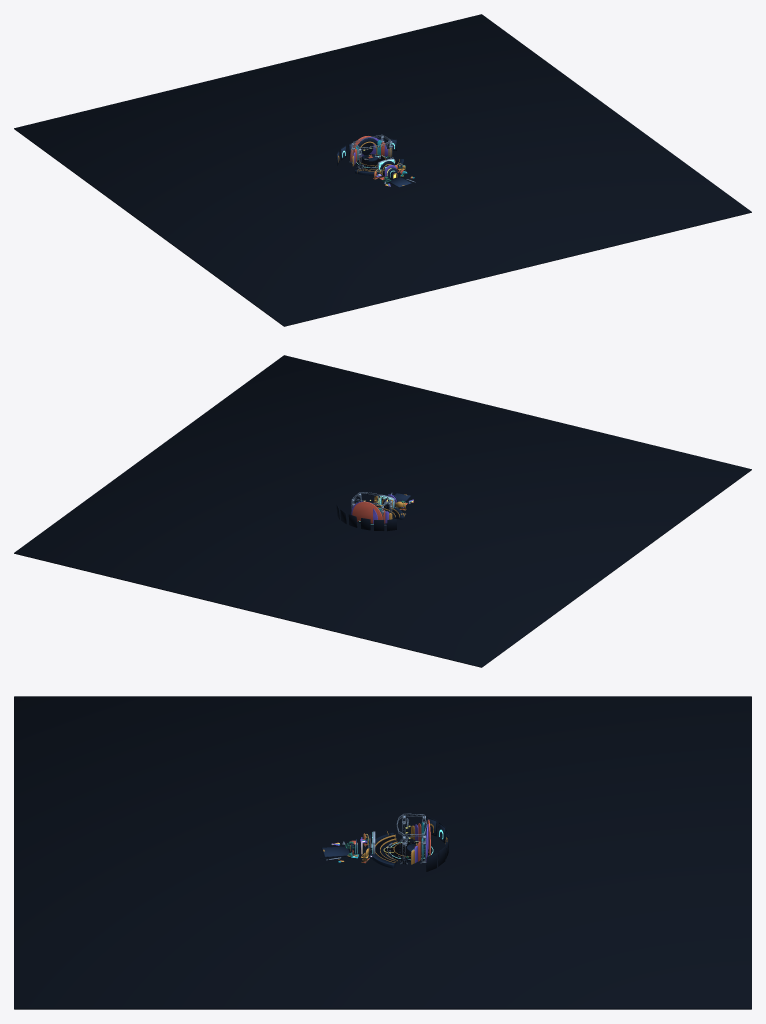
Rendered from hero-dark-diorama.glb.
3 renders of one model, top to bottom at view 1: azimuth 30°, elevation 25°; view 2: azimuth 150°, elevation 25°; view 3: azimuth 270°, elevation 25°, orthographic. The views are drawn at different scales.
Visible parts, largest first — view 1: DeskFoundation_Merged, Strata2_StageShell_Merged; view 2: DeskFoundation_Merged; view 3: DeskFoundation_Merged, Strata2_StageShell_Merged, Strata1_SeatingFoh_Merged.
Boxes of the visible parts, bbox=[...] form: DeskFoundation_Merged: bbox=[14, 14, 751, 326]; Strata2_StageShell_Merged: bbox=[350, 136, 388, 169]; DeskFoundation_Merged: bbox=[14, 355, 751, 667]; DeskFoundation_Merged: bbox=[14, 696, 751, 1009]; Strata2_StageShell_Merged: bbox=[383, 819, 433, 862]; Strata1_SeatingFoh_Merged: bbox=[366, 832, 397, 868].
Bounding box in the file's own units: 110 × 29.85 × 110.
